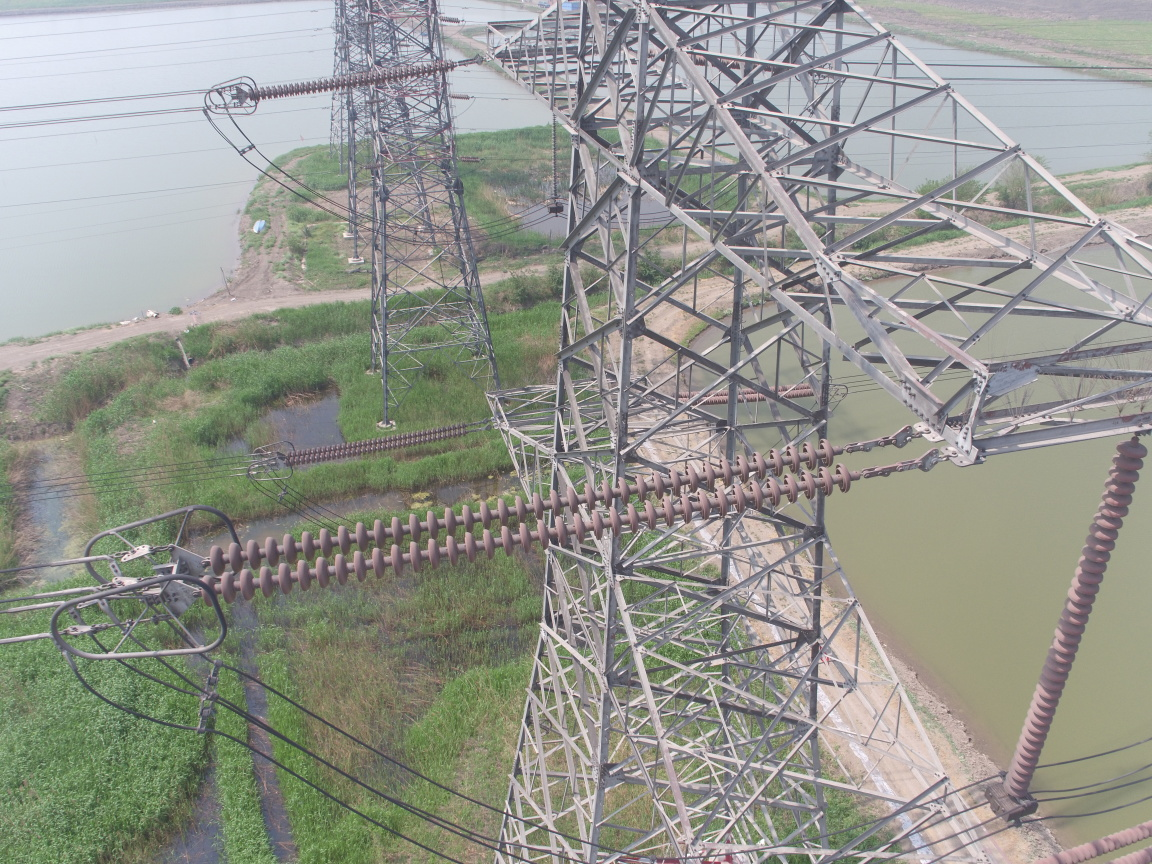insulator: (181, 436, 884, 611), (247, 58, 463, 102), (279, 421, 475, 469)
